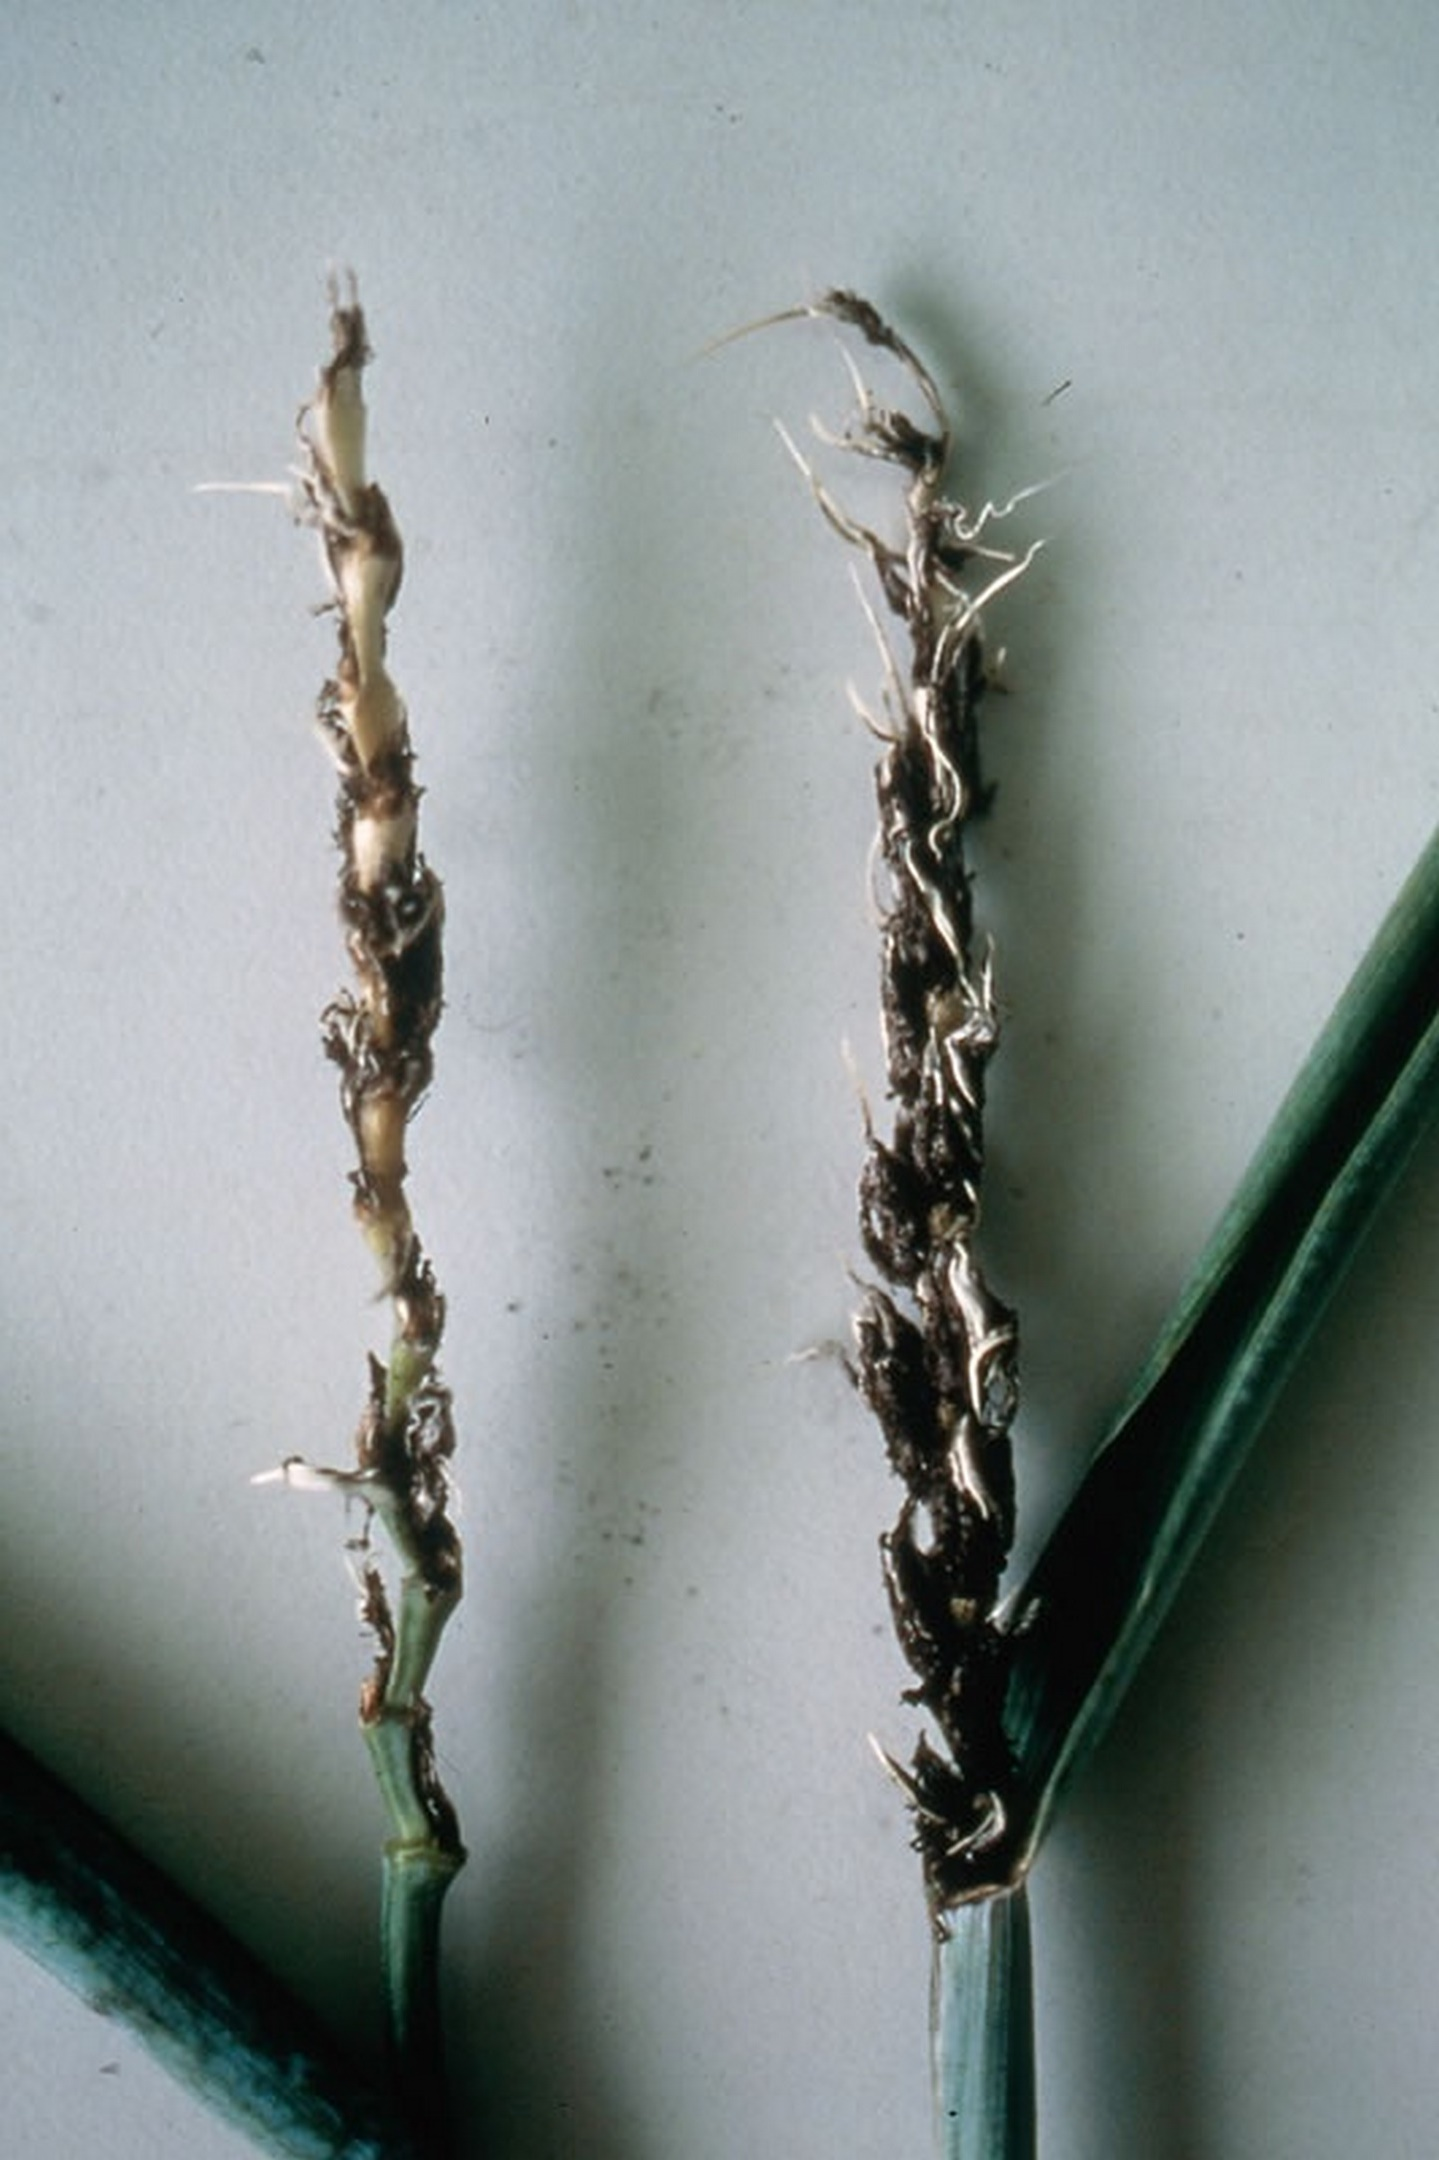Wheat Loose Smut: (771, 369, 1113, 1889)
